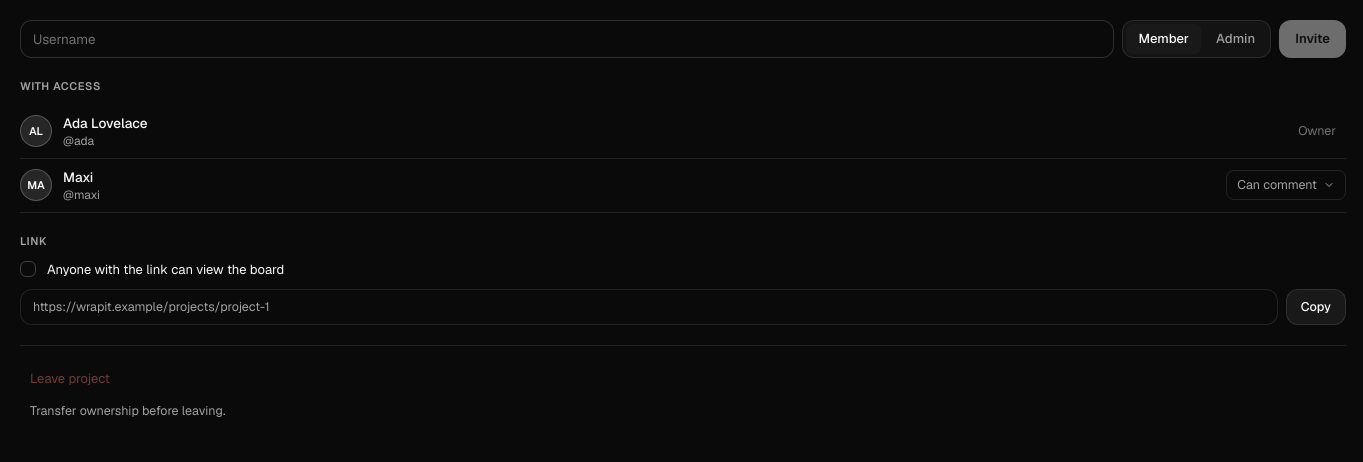
Test: ShareModalBody › shows the generic invite error
Type "nobody" into the field labelled "Username" at [567, 39], box [20,20,1114,58]
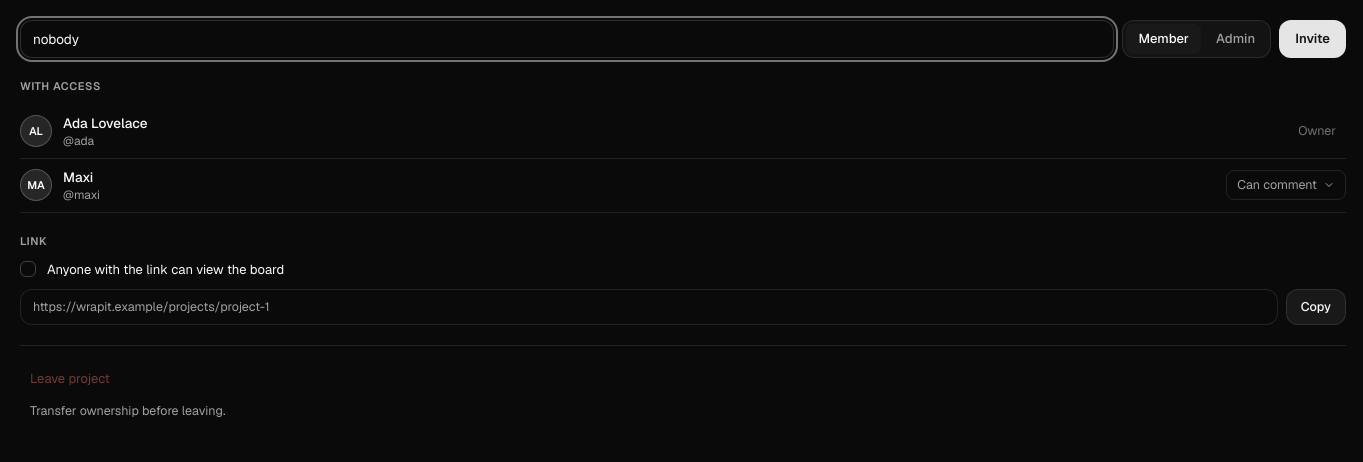
Click the button "Invite" at [1313, 39], box [1279,20,1346,58]
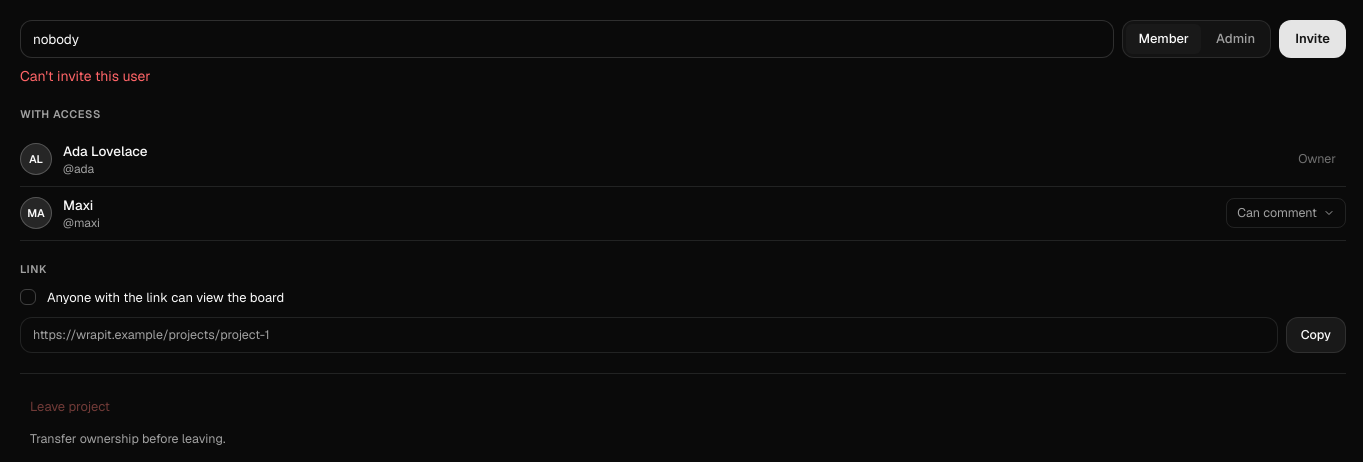
Check: the message reads "Can't invite this user", box [20,67,150,85]
